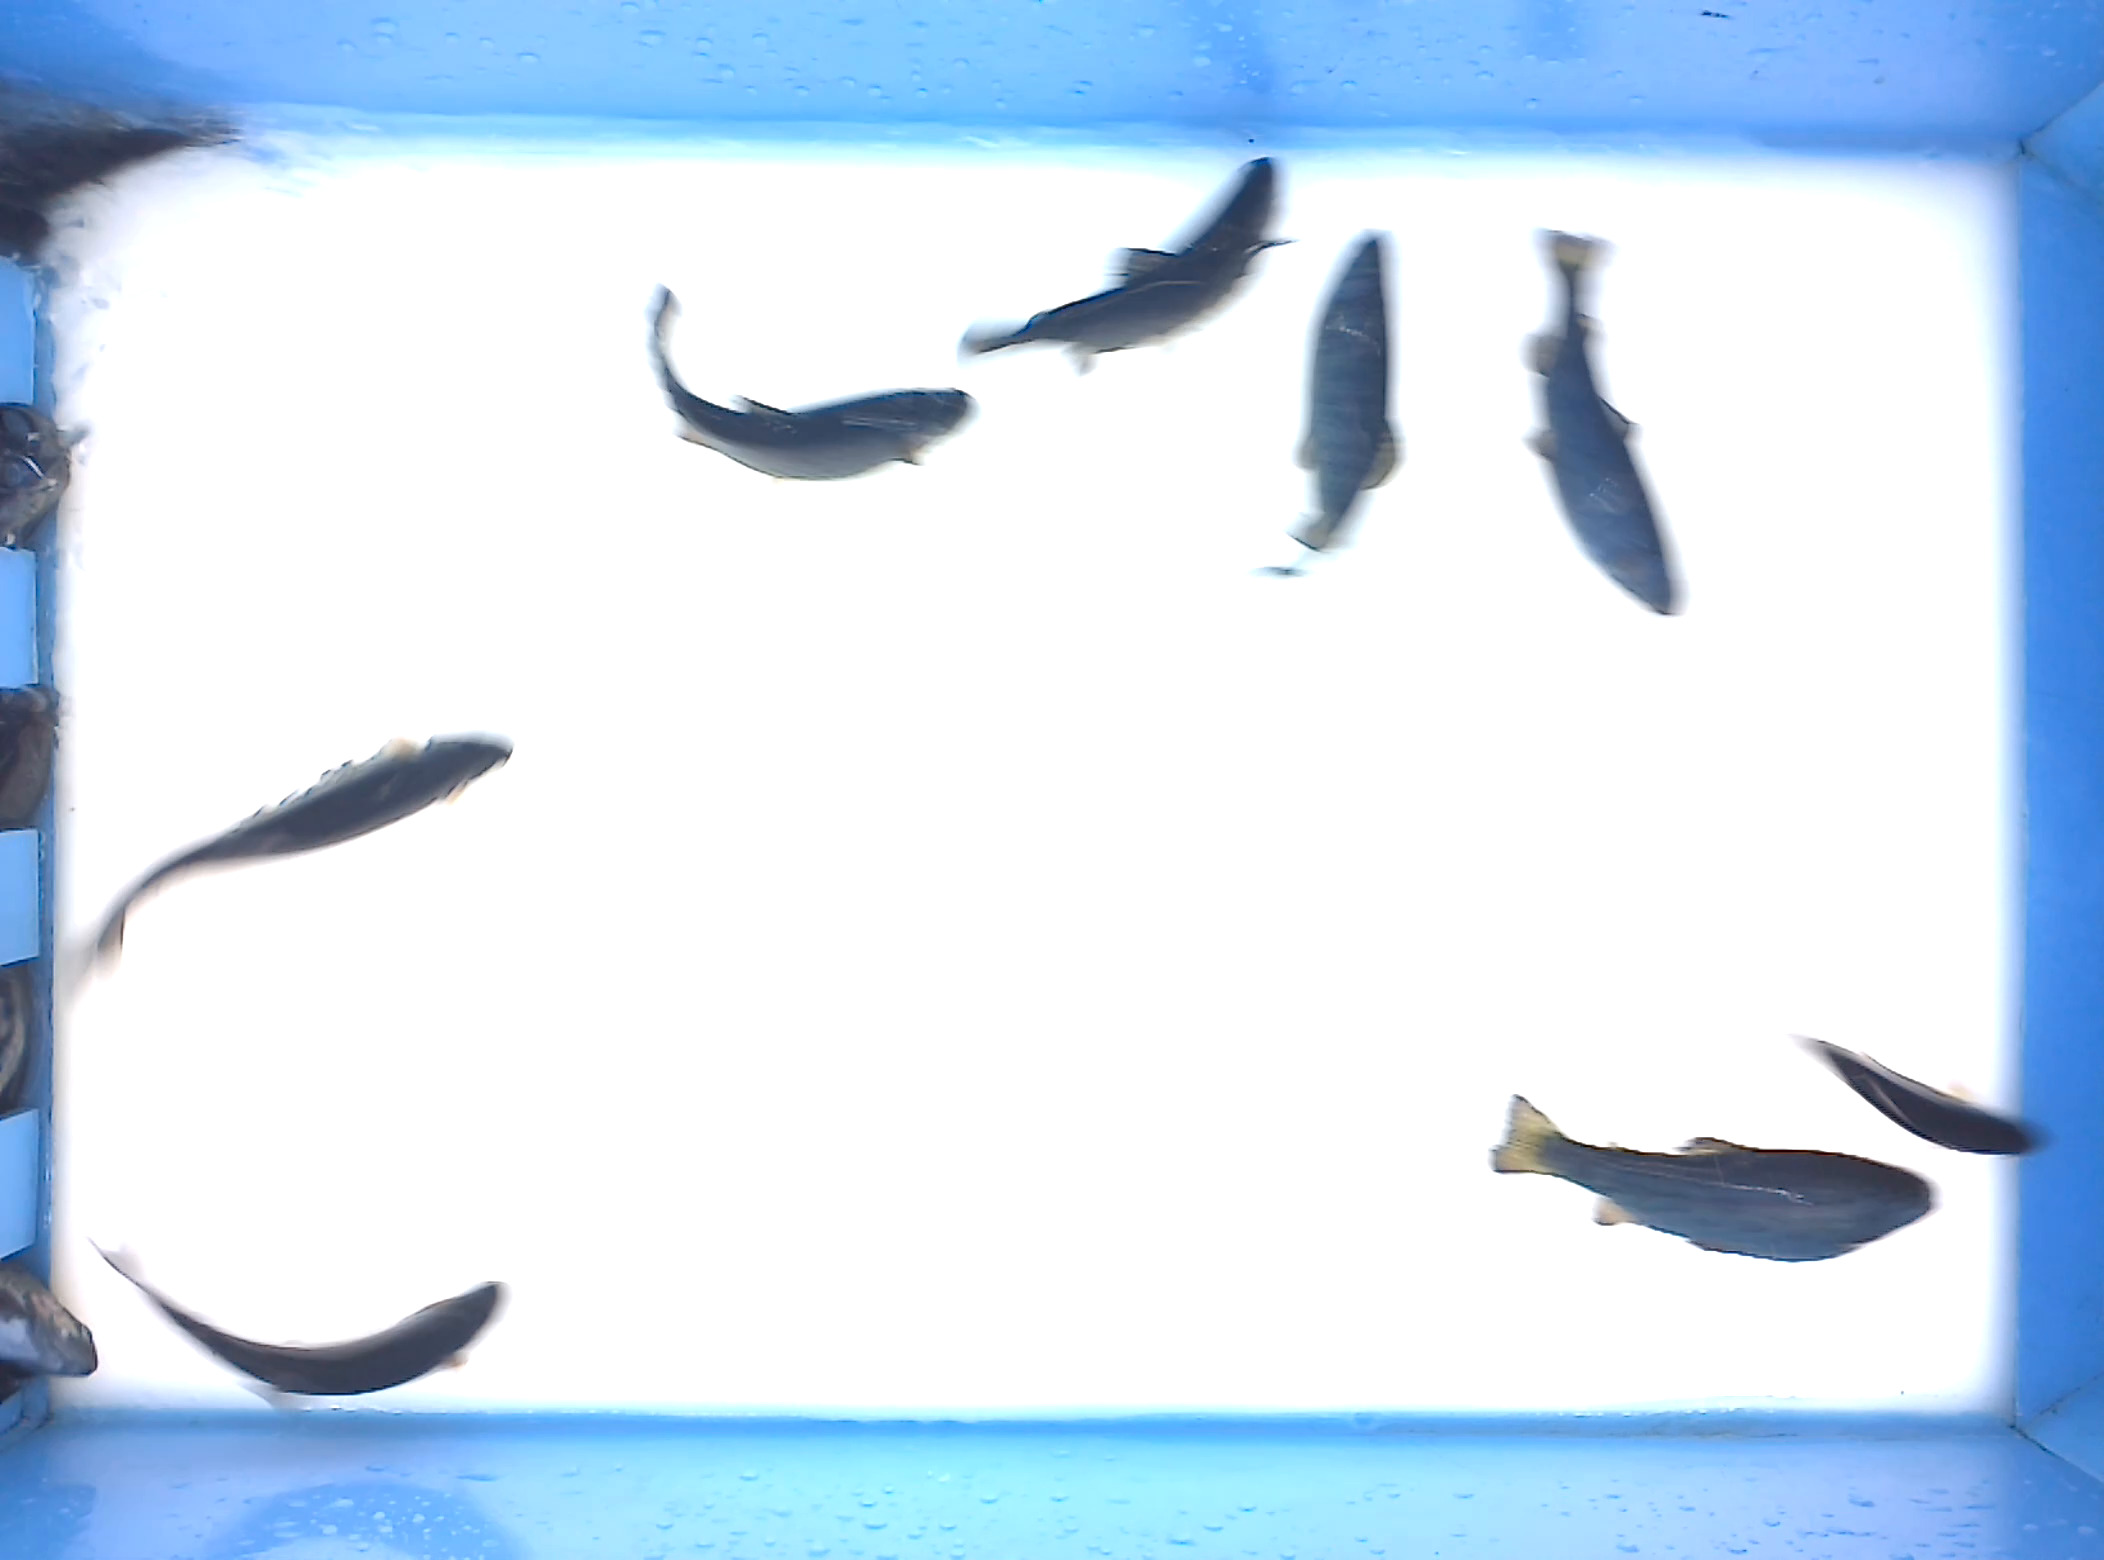fish: (56, 723, 518, 1009), (1485, 1085, 1942, 1267), (954, 147, 1303, 379), (1514, 223, 1693, 629), (84, 1232, 508, 1403), (631, 280, 978, 487), (1242, 228, 1408, 596), (1780, 1026, 2061, 1163)
